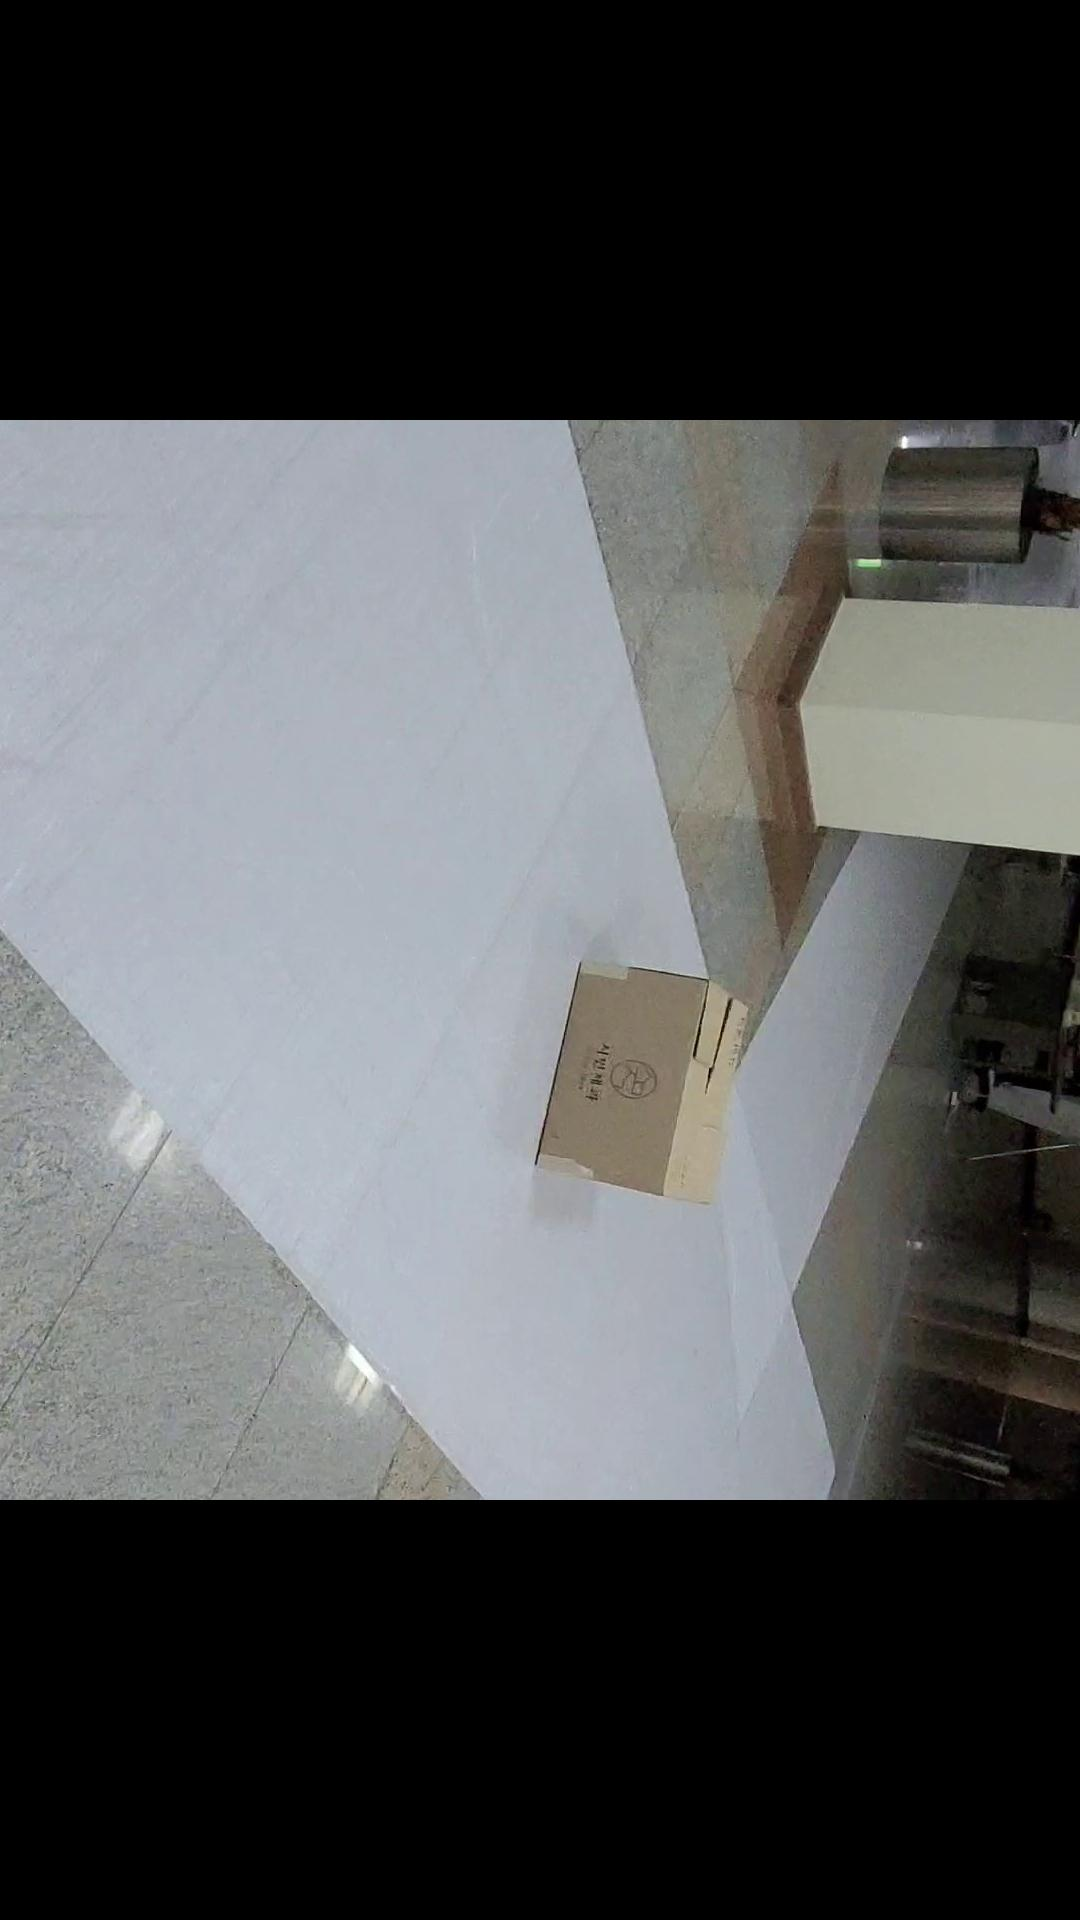Box: (485, 931, 771, 1236)
